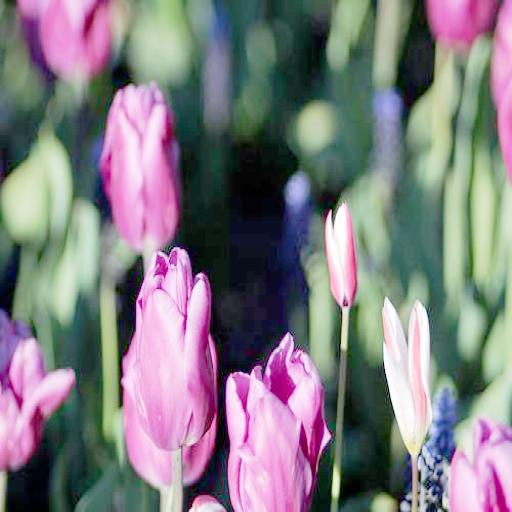tulip: (227, 330, 330, 512), (131, 251, 215, 446), (102, 83, 180, 249), (382, 292, 431, 454)
